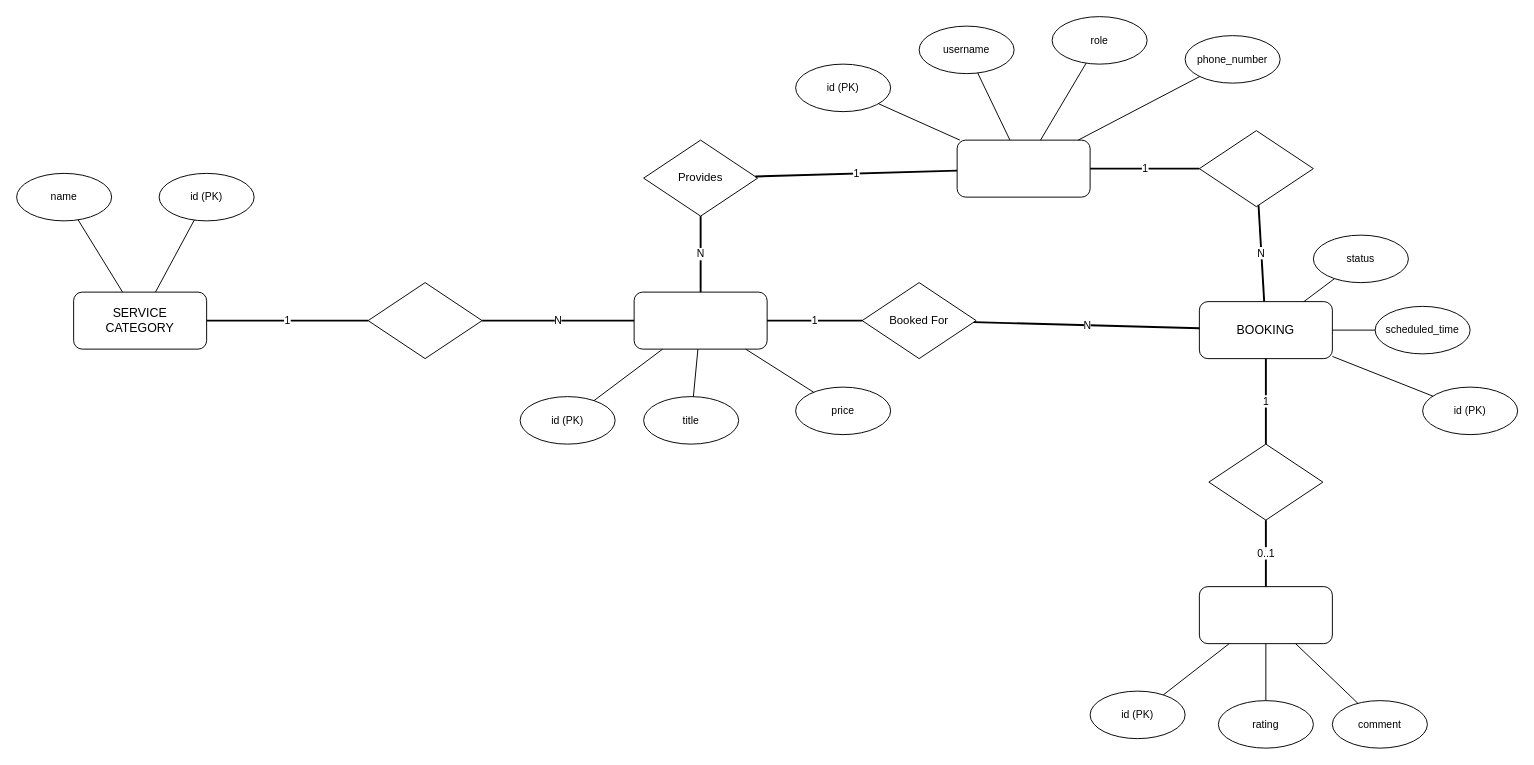
Some shapes in this 1534 by 765 pixel diagram are drawn without their labels. The centre of each missing label's shape, as x and y in pixels:
Categorizes: the point at 424,320
Makes: the point at 1255,168
Receives: the point at 1265,481
REVIEW: the point at 1265,615
SERVICE LISTING: the point at 700,320
USER: the point at 1023,168
